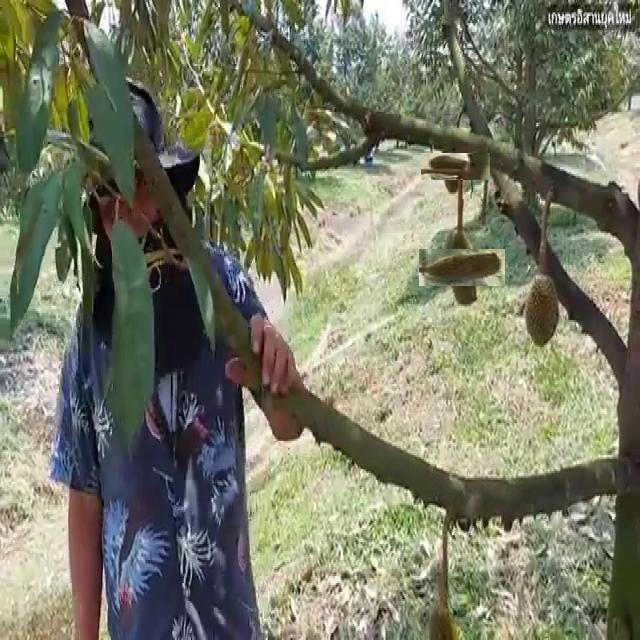durian: (431, 236, 493, 298), (524, 269, 562, 352), (431, 143, 480, 191)
